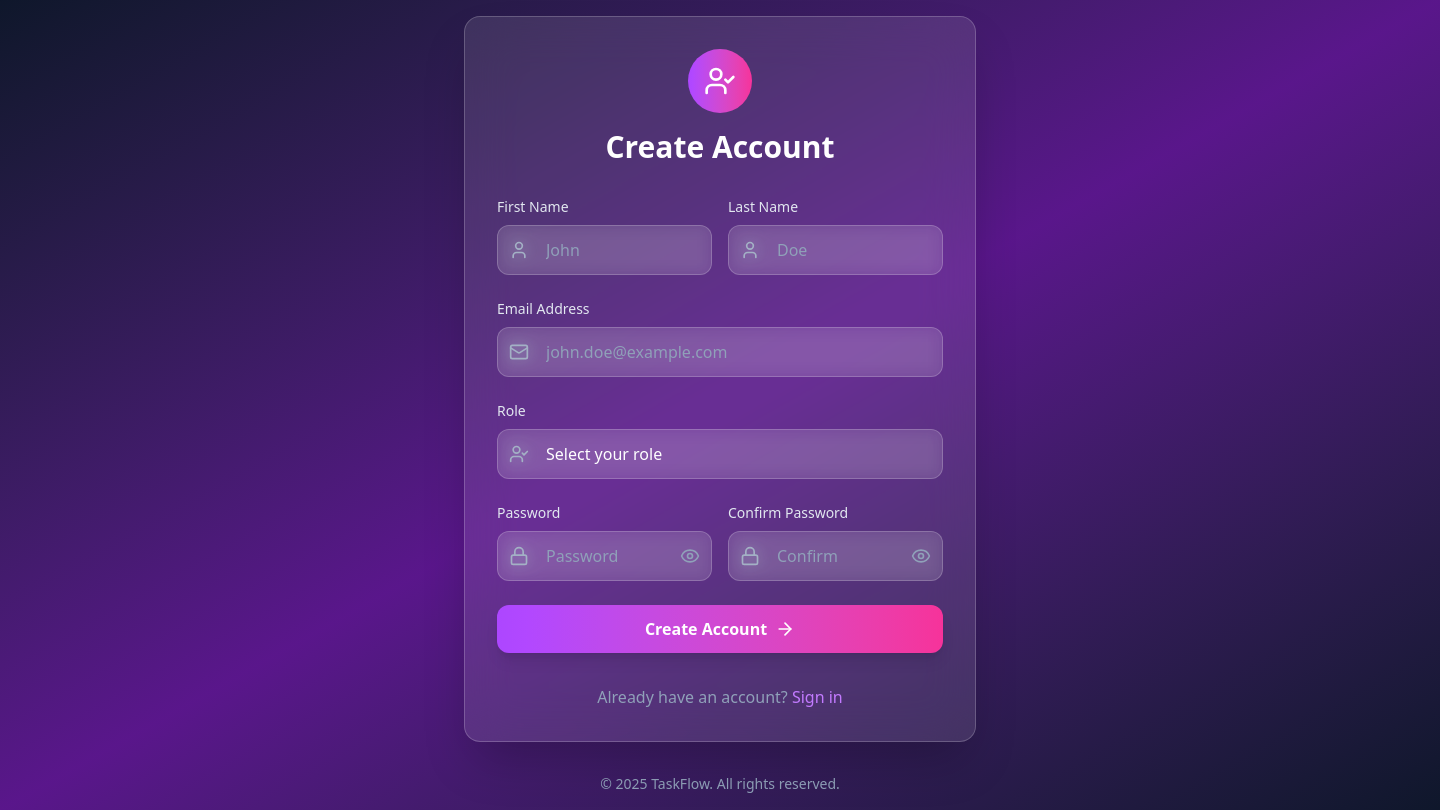
Test: Register Component › Component Rendering › shows developer type field when developer role is selected
This screenshot has width=1440, height=810.
Select "Developer" in the dropdown showing "Select your role" at (720,454), box x1=497 y1=429 x2=943 y2=479
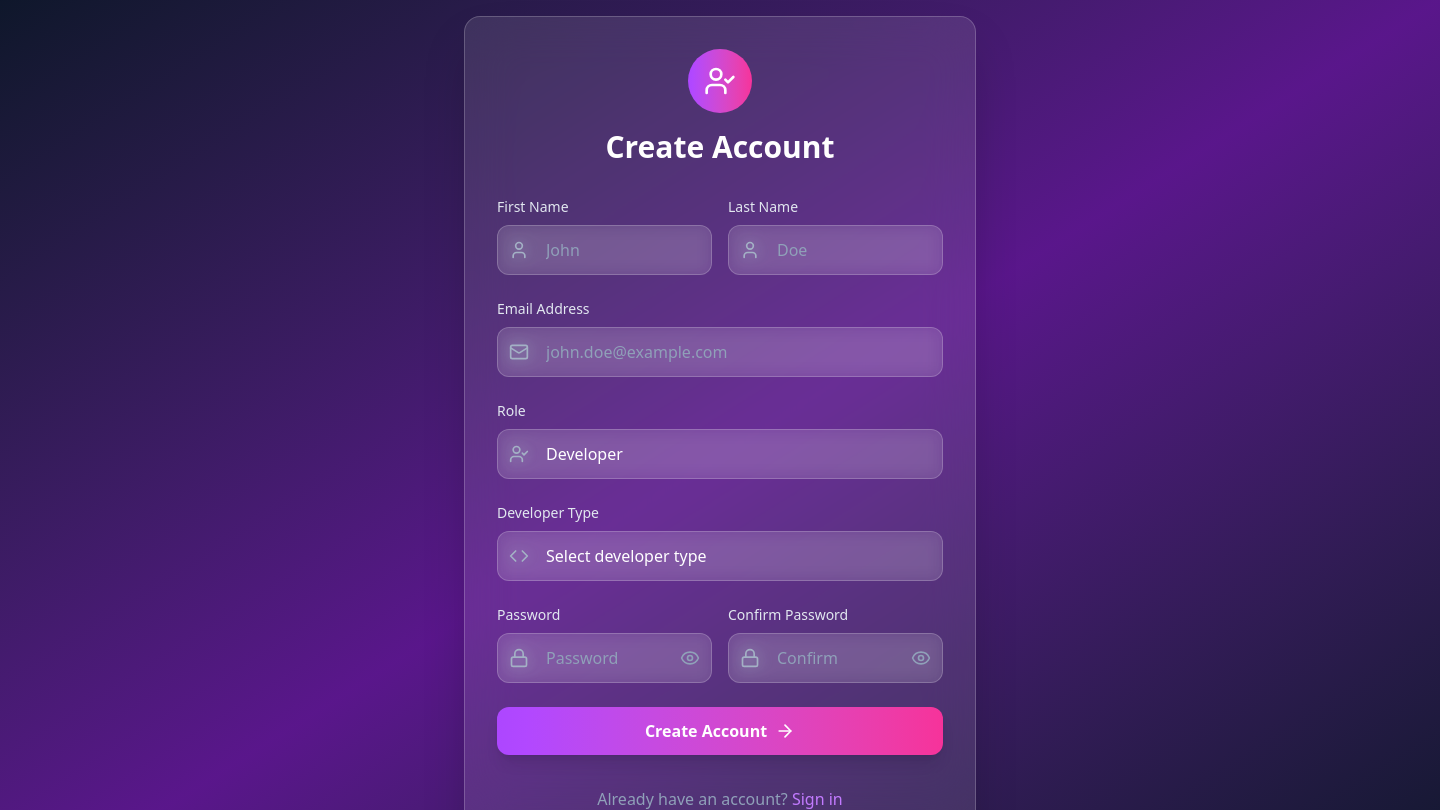
Expected: the dropdown showing "Select developer type" is shown, x1=497 y1=531 x2=943 y2=581
